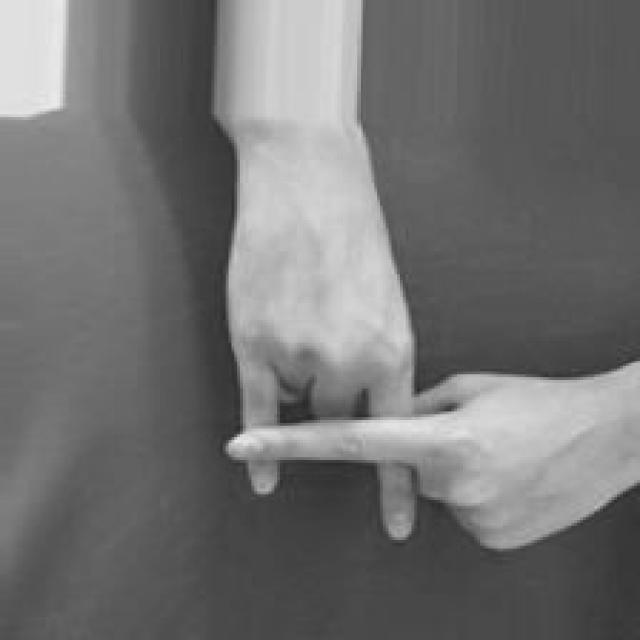H: (222, 171, 640, 560)
